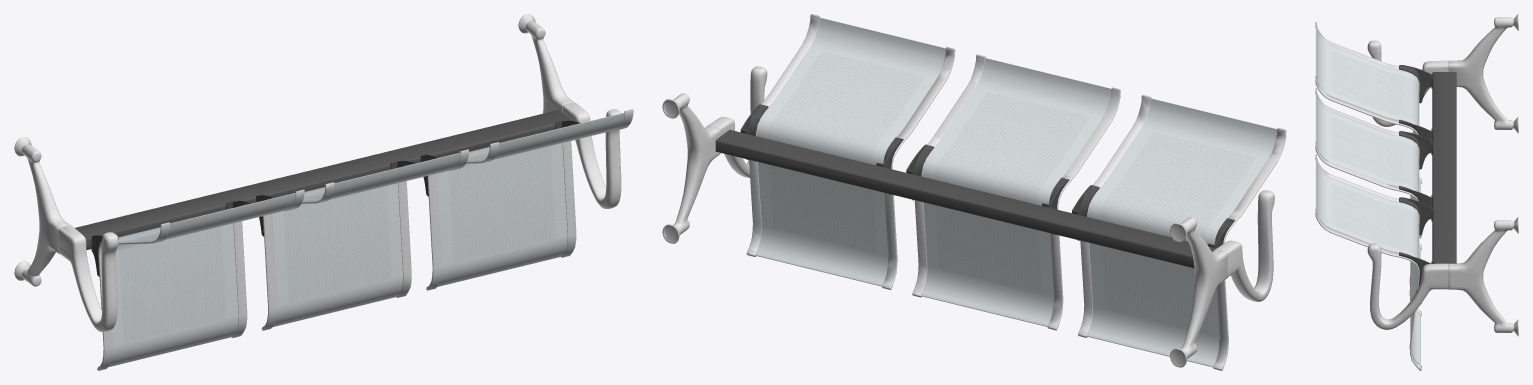
Rendered from Ghế phòng chờ.glb.
3 views of the same model, side by side, from view 1: azimuth 30°, elevation 25°; view 2: azimuth 150°, elevation 25°; view 3: azimuth 270°, elevation 25° (orthographic). The views are drawn at different scales.
Parts seen in each view (by area): view 1: Waiting Bench (3 Seats); view 2: Waiting Bench (3 Seats); view 3: Waiting Bench (3 Seats).
Boxes of the visible parts, left/top/right/bottom form: Waiting Bench (3 Seats): left=14, top=14, right=633, bottom=370; Waiting Bench (3 Seats): left=662, top=14, right=1286, bottom=370; Waiting Bench (3 Seats): left=1315, top=14, right=1518, bottom=370.
Size of the model in its own units: 2.31 by 0.8215 by 0.9475.
Materials: 1 (1 with a texture image).
